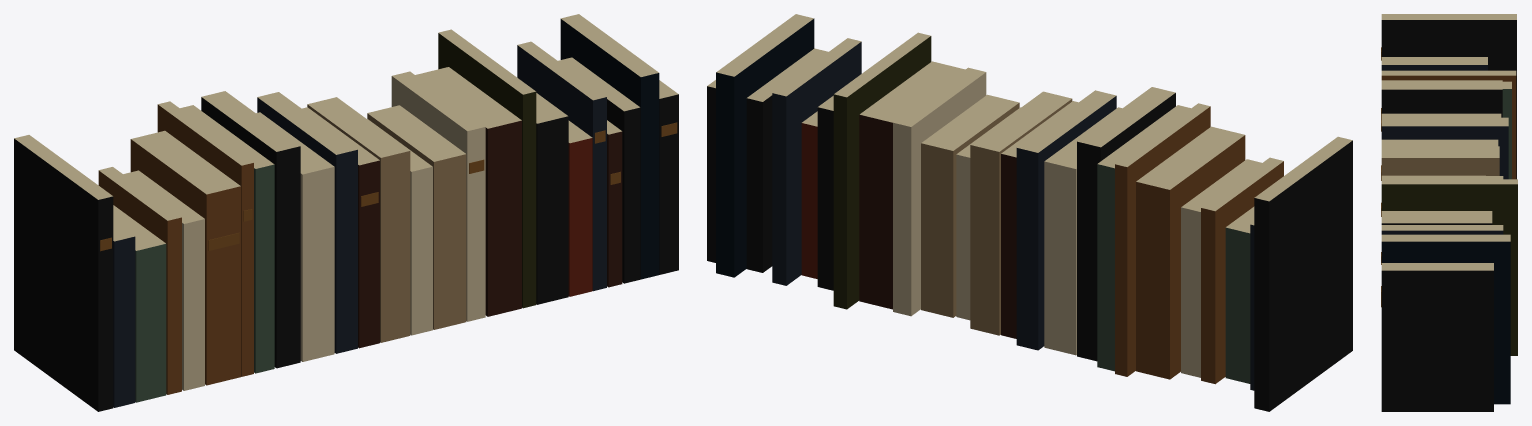
The picture shows the model from 3 angles, left to right: view 1: azimuth 30°, elevation 25°; view 2: azimuth 150°, elevation 25°; view 3: azimuth 270°, elevation 25°; orthographic projection. The views are drawn at different scales.
Visible parts, largest first — view 1: books-row-70; view 2: books-row-70; view 3: books-row-70.
Part boxes in pixels (bbox=[...]): books-row-70: bbox=[14, 14, 678, 411]; books-row-70: bbox=[707, 14, 1352, 411]; books-row-70: bbox=[1381, 14, 1517, 411].
Size of the model in its own units: 0.6817 by 0.2429 by 0.1731.
